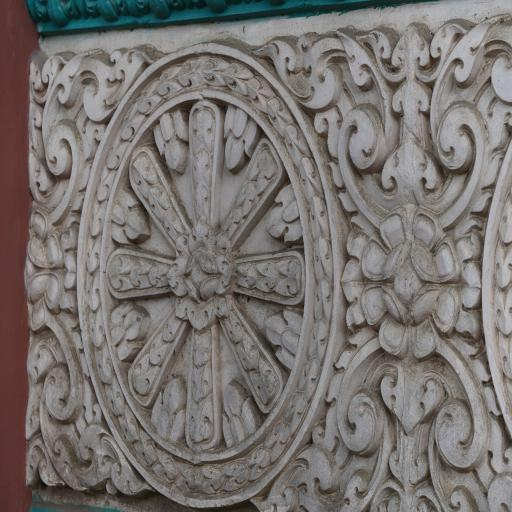hoa: (82, 53, 344, 504), (352, 188, 461, 353)
la: (21, 317, 138, 493), (27, 53, 85, 219), (430, 342, 488, 472), (24, 212, 84, 322), (337, 346, 393, 461), (332, 96, 386, 208), (435, 94, 487, 207), (374, 22, 459, 88)
